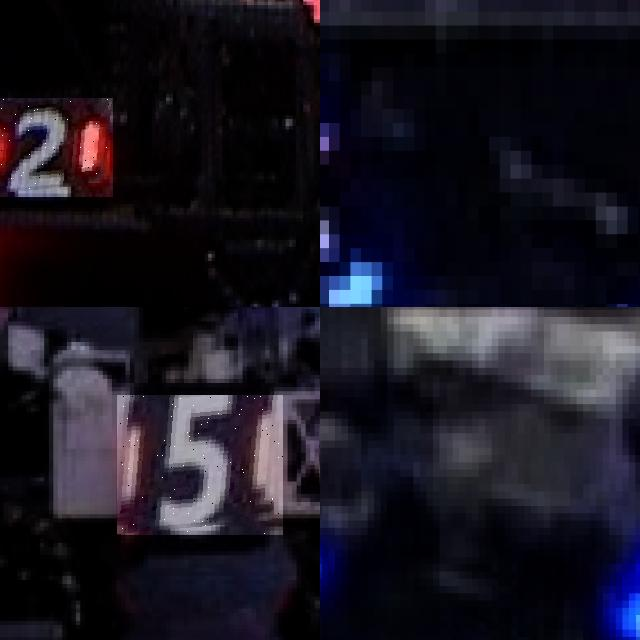R2: (0, 97, 113, 197)
R5: (117, 395, 283, 535)
